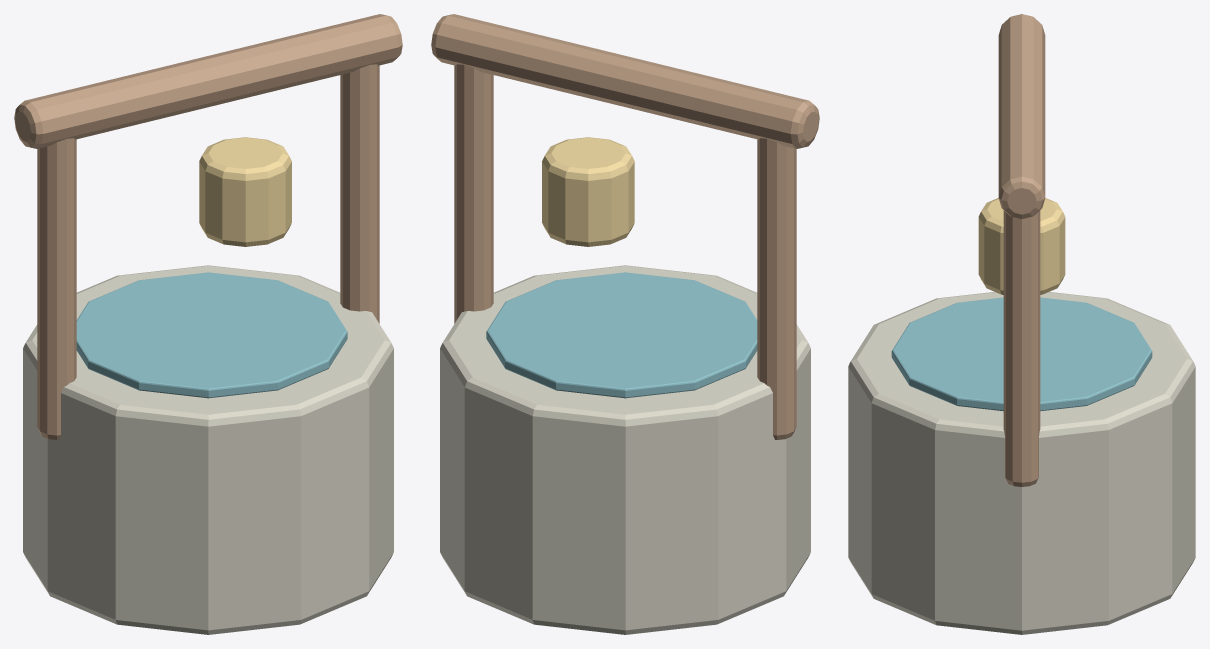
Rendered from well.glb.
3 views of the same model, side by side, from view 1: azimuth 30°, elevation 25°; view 2: azimuth 150°, elevation 25°; view 3: azimuth 270°, elevation 25° (orthographic). The views are drawn at different scales.
Parts seen in each view (by area): view 1: Sculpt__Limestone, Sculpt__Honey oak, Sculpt__Water, Sculpt__Hammered brass; view 2: Sculpt__Limestone, Sculpt__Honey oak, Sculpt__Water, Sculpt__Hammered brass; view 3: Sculpt__Limestone, Sculpt__Water, Sculpt__Honey oak, Sculpt__Hammered brass.
Part boxes in pixels (x1,y1,x2,y2): Sculpt__Limestone: [23, 265, 393, 634]; Sculpt__Honey oak: [14, 14, 402, 439]; Sculpt__Water: [76, 272, 347, 398]; Sculpt__Hammered brass: [199, 137, 291, 246]; Sculpt__Limestone: [440, 265, 810, 634]; Sculpt__Honey oak: [431, 14, 819, 439]; Sculpt__Water: [486, 272, 757, 398]; Sculpt__Hammered brass: [542, 137, 634, 246]; Sculpt__Limestone: [848, 292, 1195, 634]; Sculpt__Water: [891, 297, 1152, 411]; Sculpt__Honey oak: [998, 14, 1045, 486]; Sculpt__Hammered brass: [978, 198, 1065, 294].
Size of the model in its own units: 1.2 by 1.55 by 1.04.
